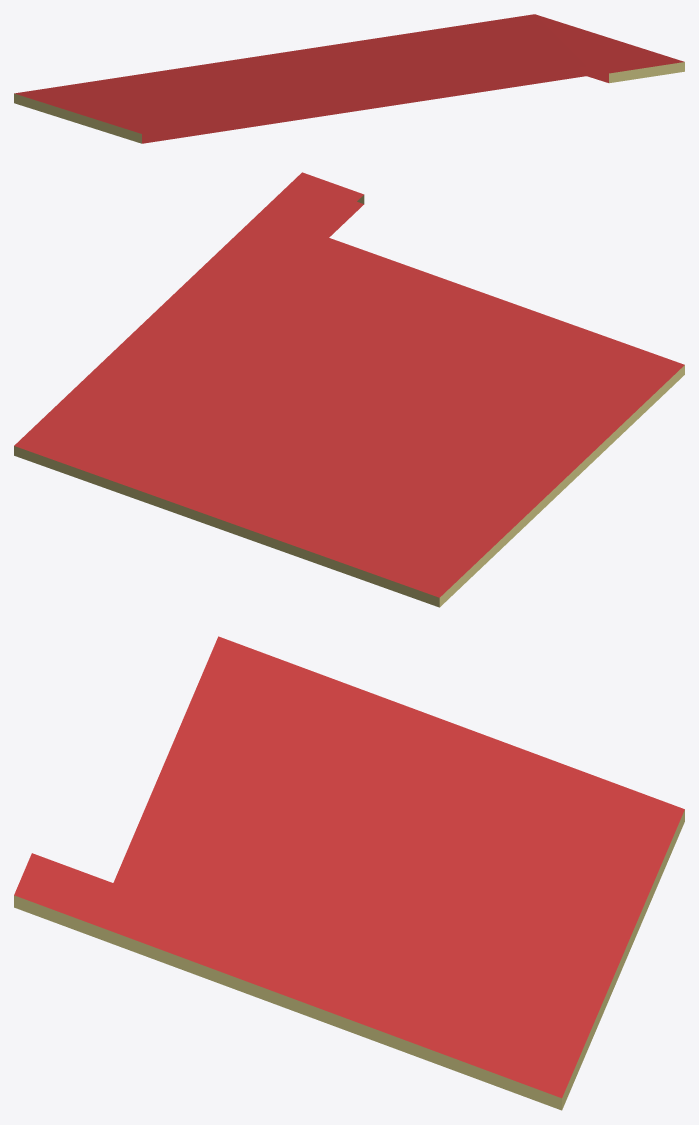
The picture shows the model from 3 angles, top to bottom: view 1: azimuth 30°, elevation 25°; view 2: azimuth 150°, elevation 25°; view 3: azimuth 270°, elevation 25°; orthographic projection. The views are drawn at different scales.
Size of the model in its own units: 5.67 by 4.96 by 1.42.
